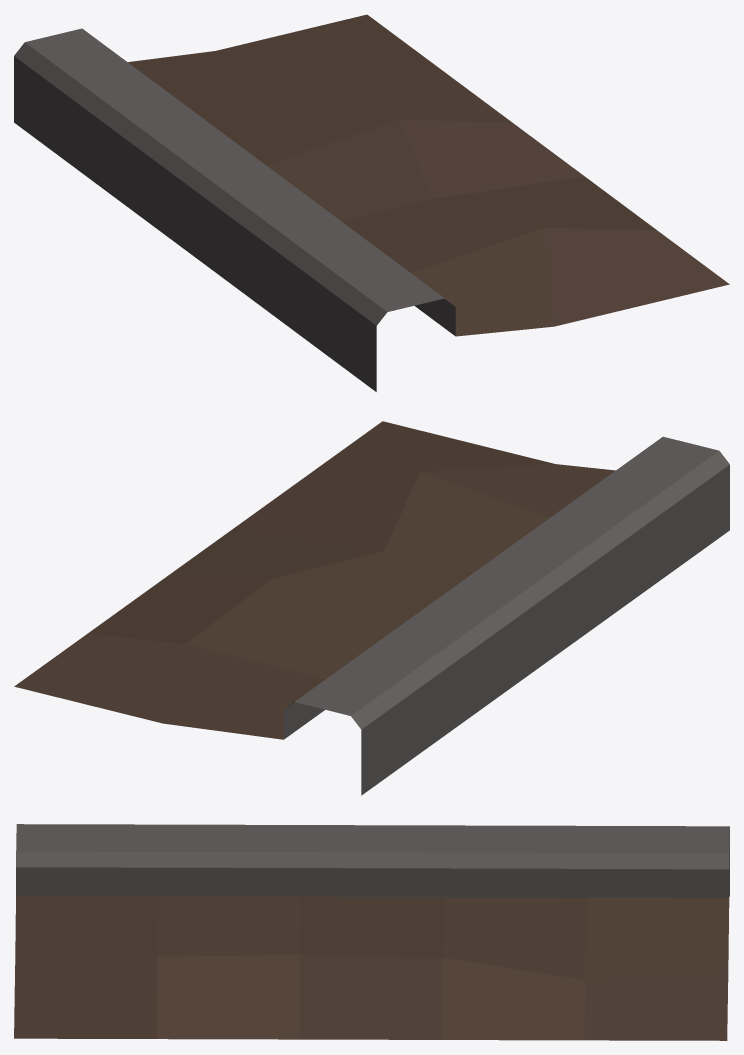
File: Garden Ground Edge.fbx
The picture shows the model from 3 angles, top to bottom: view 1: azimuth 30°, elevation 25°; view 2: azimuth 150°, elevation 25°; view 3: azimuth 270°, elevation 25°; orthographic projection. The views are drawn at different scales.
Visible parts, largest first — view 1: Garden Ground Edge.001; view 2: Garden Ground Edge.001; view 3: Garden Ground Edge.001.
Part boxes in pixels (x1,y1,x2,y2): Garden Ground Edge.001: (14, 14, 729, 391); Garden Ground Edge.001: (14, 421, 729, 795); Garden Ground Edge.001: (14, 824, 729, 1040).
Size of the model in its own units: 111 by 199 by 23.12.
